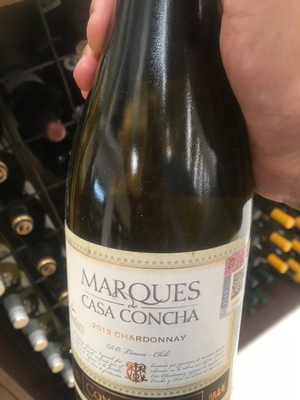marques de casa concha chardonnay: (53, 6, 258, 400)
